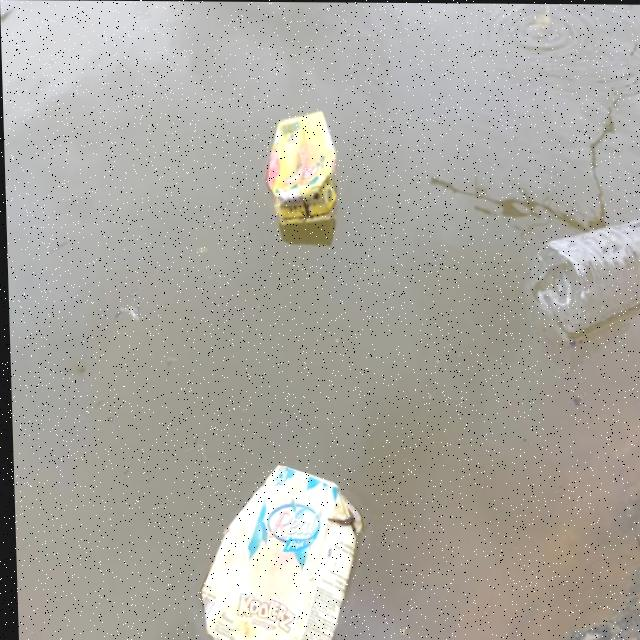paper: (178, 454, 389, 640), (260, 115, 352, 245)
waterbottle: (528, 220, 640, 336)
